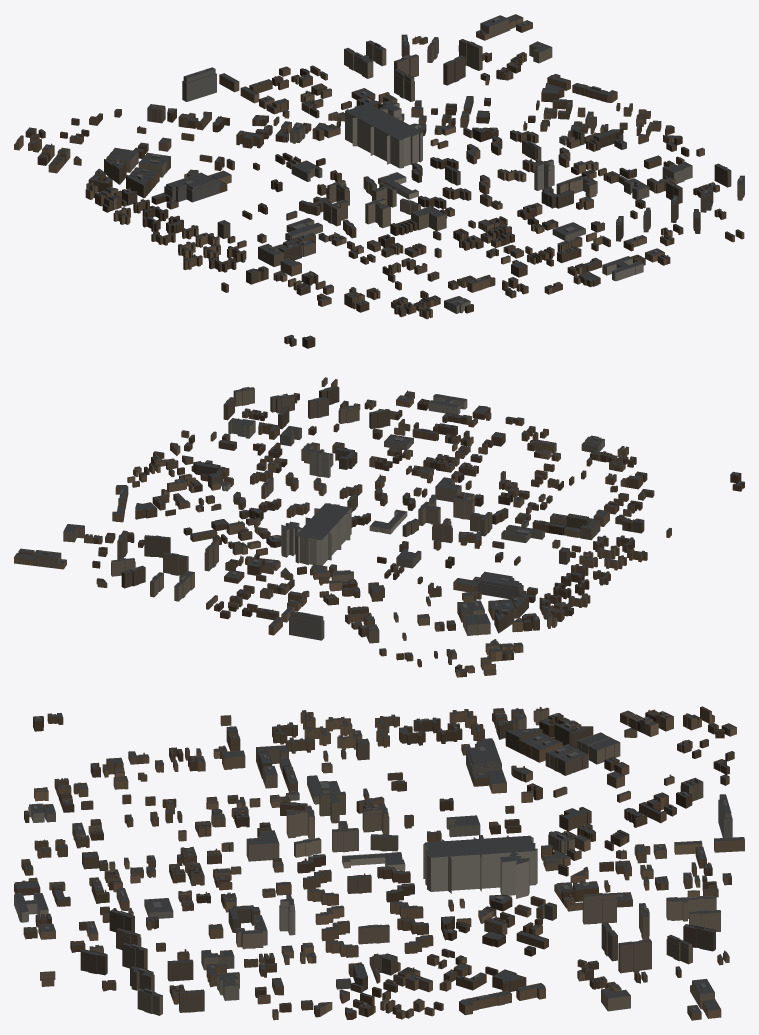
File: manhattan_+01_-07.glb
The picture shows the model from 3 angles, top to bottom: view 1: azimuth 30°, elevation 25°; view 2: azimuth 150°, elevation 25°; view 3: azimuth 270°, elevation 25°; orthographic projection. The views are drawn at different scales.
Parts seen in each view (by area): view 1: BLD_lowrise_+01_-07, BLD_midrise_+01_-07; view 2: BLD_lowrise_+01_-07, BLD_midrise_+01_-07; view 3: BLD_lowrise_+01_-07, BLD_midrise_+01_-07.
Boxes of the visible parts, x1,y1,x2,y2 form: BLD_lowrise_+01_-07: [14, 14, 744, 348]; BLD_midrise_+01_-07: [57, 15, 744, 284]; BLD_lowrise_+01_-07: [14, 377, 744, 677]; BLD_midrise_+01_-07: [33, 386, 644, 648]; BLD_lowrise_+01_-07: [14, 706, 744, 1020]; BLD_midrise_+01_-07: [80, 706, 732, 1015].
Bounding box in the file's own units: 1421 × 74.92 × 1447.
